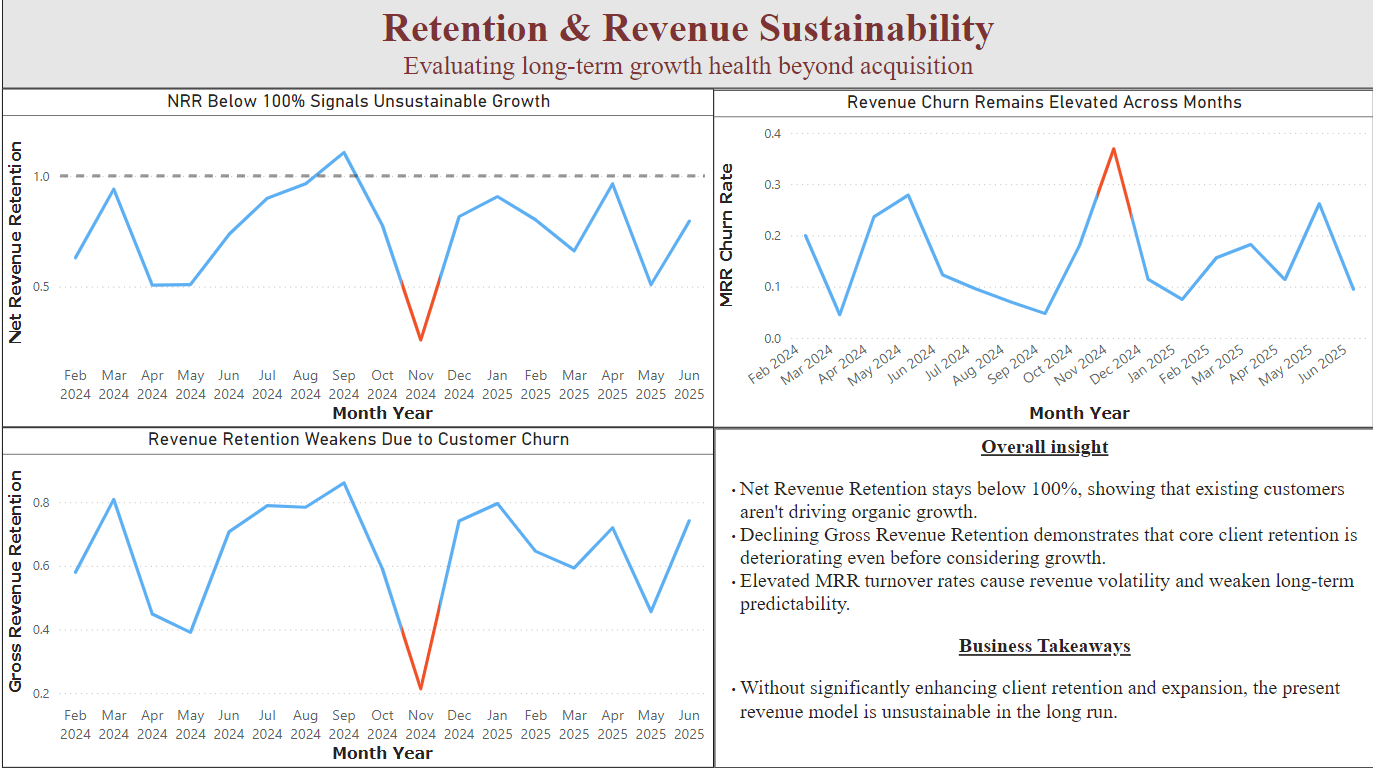

This screenshot's page, from the dashboard's own definition file:
{"tool":"powerbi","page":{"name":"RETENTION & SUSTAINABILITY","canvas":[1280,720],"ordinal":2},"visuals":[{"type":"lineChart","title":"NRR Below 100% Signals Unsustainable Growth","fields":{"Category":["Date.Month Year"],"Y":["Date.NRR"]},"box":[0,86.2,663.8,316.2],"z":0},{"type":"lineChart","title":"Revenue Retention Weakens Due to Customer Churn","fields":{"Category":["Date.Month Year"],"Y":["Date.GRR"]},"box":[0,402.5,663.8,317.5],"z":1000},{"type":"lineChart","title":"Revenue Churn Remains Elevated Across Months","fields":{"Category":["Date.Month Year"],"Y":["Date.MRR Churn Rate"]},"box":[663.8,87.5,616.2,315],"z":2000},{"type":"textbox","box":[0,2.5,1280,83.8],"z":3000},{"type":"textbox","box":[664,403,616,317],"z":4000}]}

Visuals, with their boxes in screenshot pixels (x1, y1, x2, y2), scaled from the page's 1280x720 canvas onto the 1373x768 screenshot:
"NRR Below 100% Signals Unsustainable Growth" lineChart: (0, 92, 712, 429)
"Revenue Retention Weakens Due to Customer Churn" lineChart: (0, 429, 712, 767)
"Revenue Churn Remains Elevated Across Months" lineChart: (712, 93, 1372, 429)
textbox: (0, 3, 1372, 92)
textbox: (712, 430, 1372, 767)
